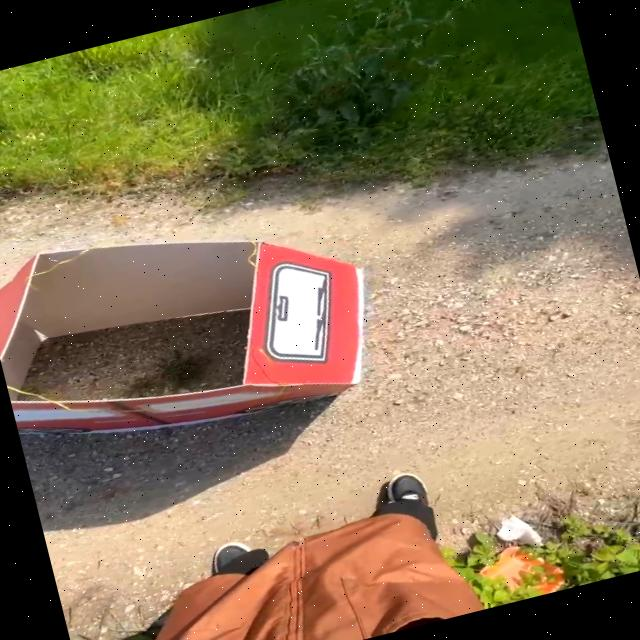red_car: (0, 132, 461, 508)
